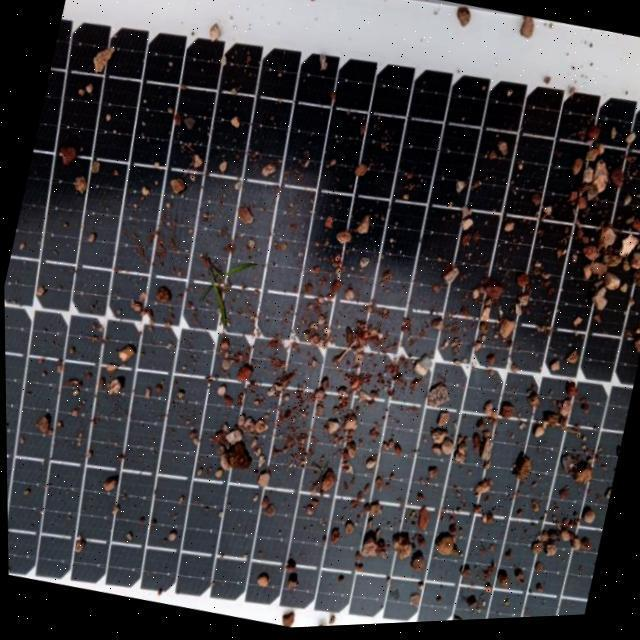Anomaly Solar Panel: (0, 0, 640, 640)
Surface Contaminant: (3, 0, 640, 630)
